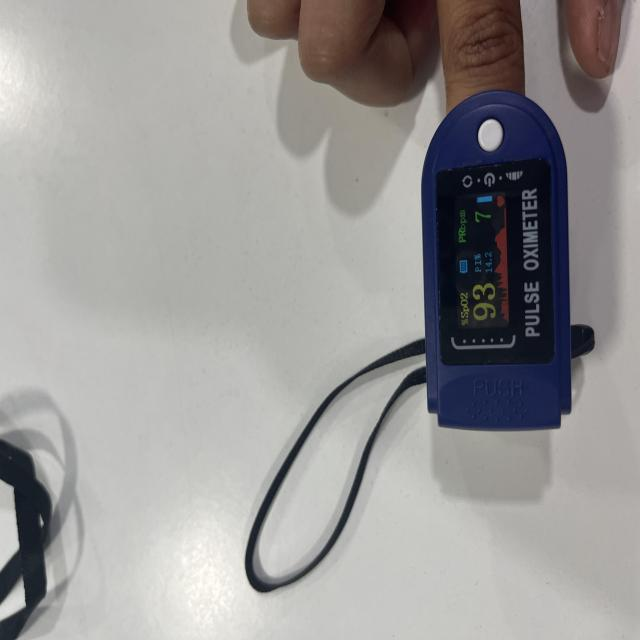spo2: (420, 91, 574, 434)
